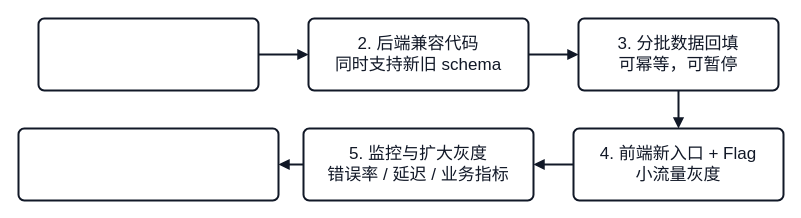
Image size: 801x218. Some labels were removed from this diagram. Here are the shapes that lost their labels. From the top down, the centre of each, then its label:
At pixel 148 54: "1. schema 兼容变更 不删旧字段，不强制约束".
At pixel 148 164: "6. 收紧约束 NOT NULL / 删除旧字段 / 清理旧逻辑".
